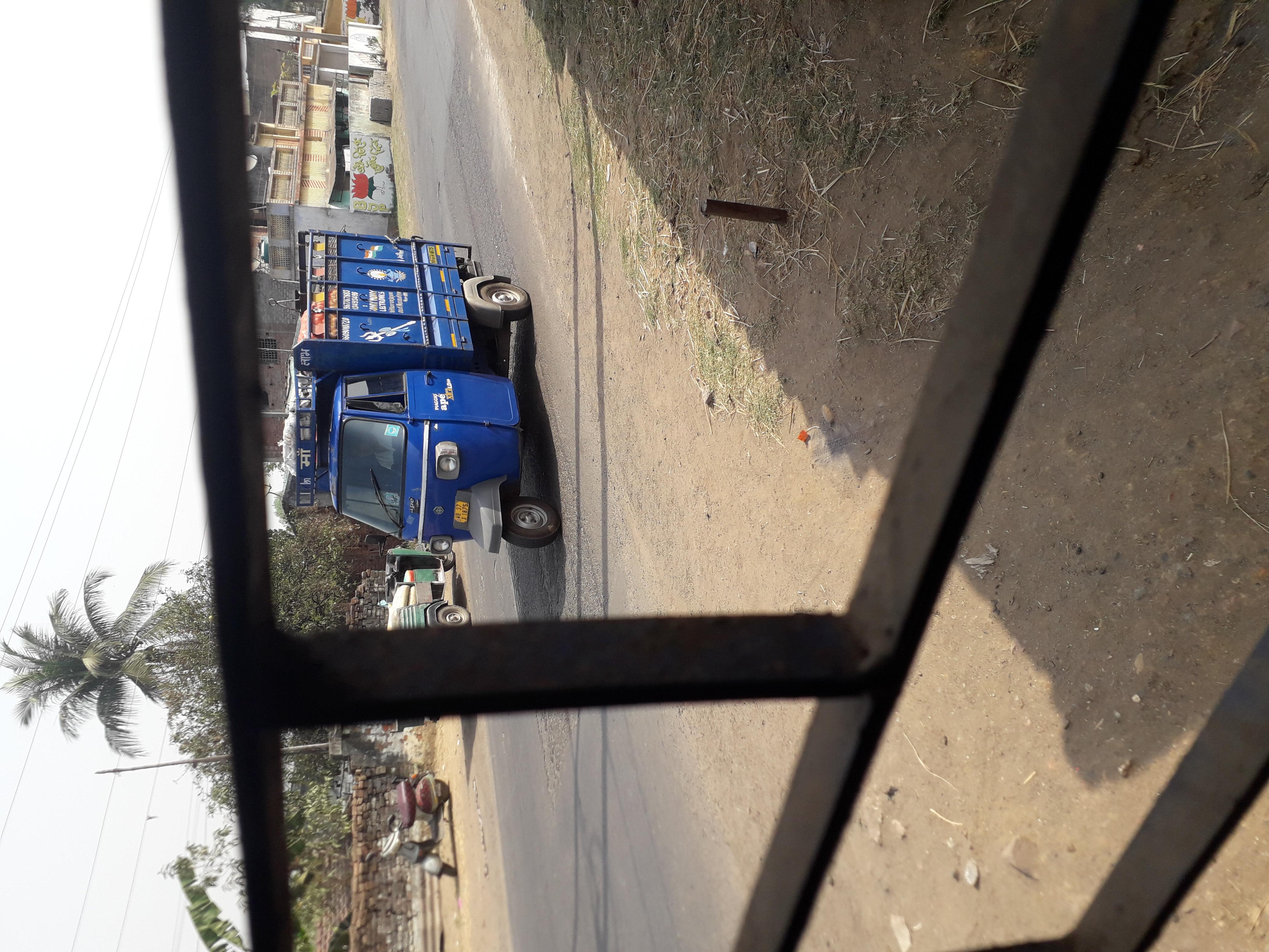Auto: (549, 219, 984, 443)
